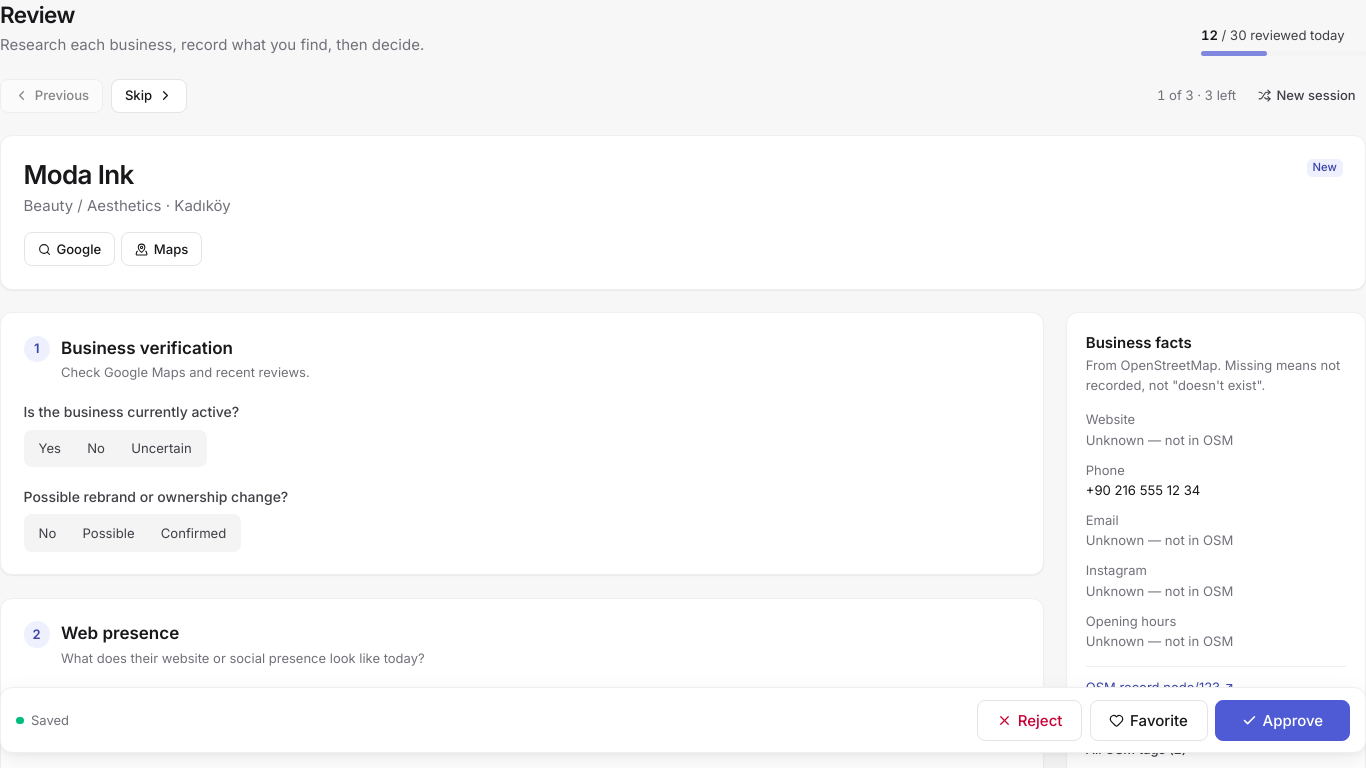
Review sessions › advances in the same deck after a decision
expect the heading "Moda Ink" is shown: met, box left=24, top=158, right=134, bottom=190
Click the button "Reject": (1030, 720) left=977, top=700, right=1082, bottom=741
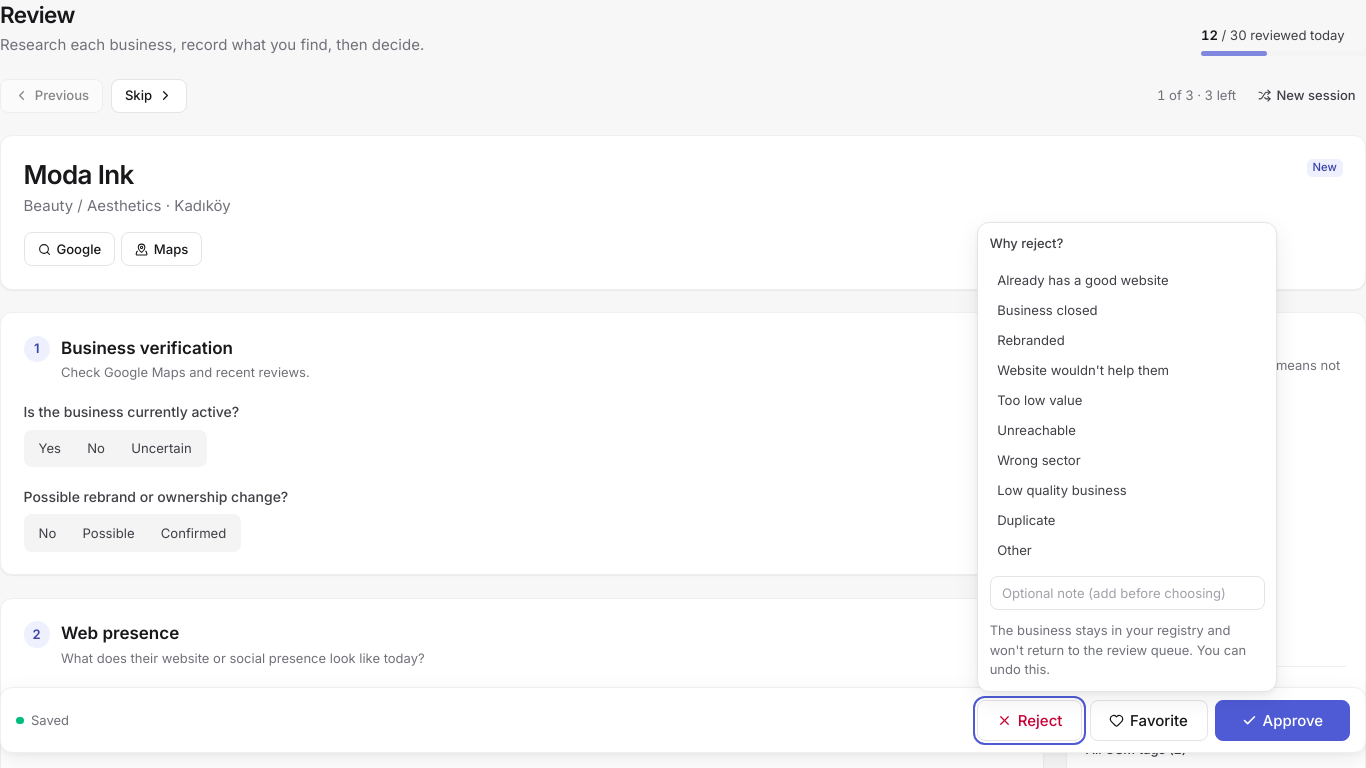
Click the button "Other": (1014, 550) left=990, top=535, right=1265, bottom=565
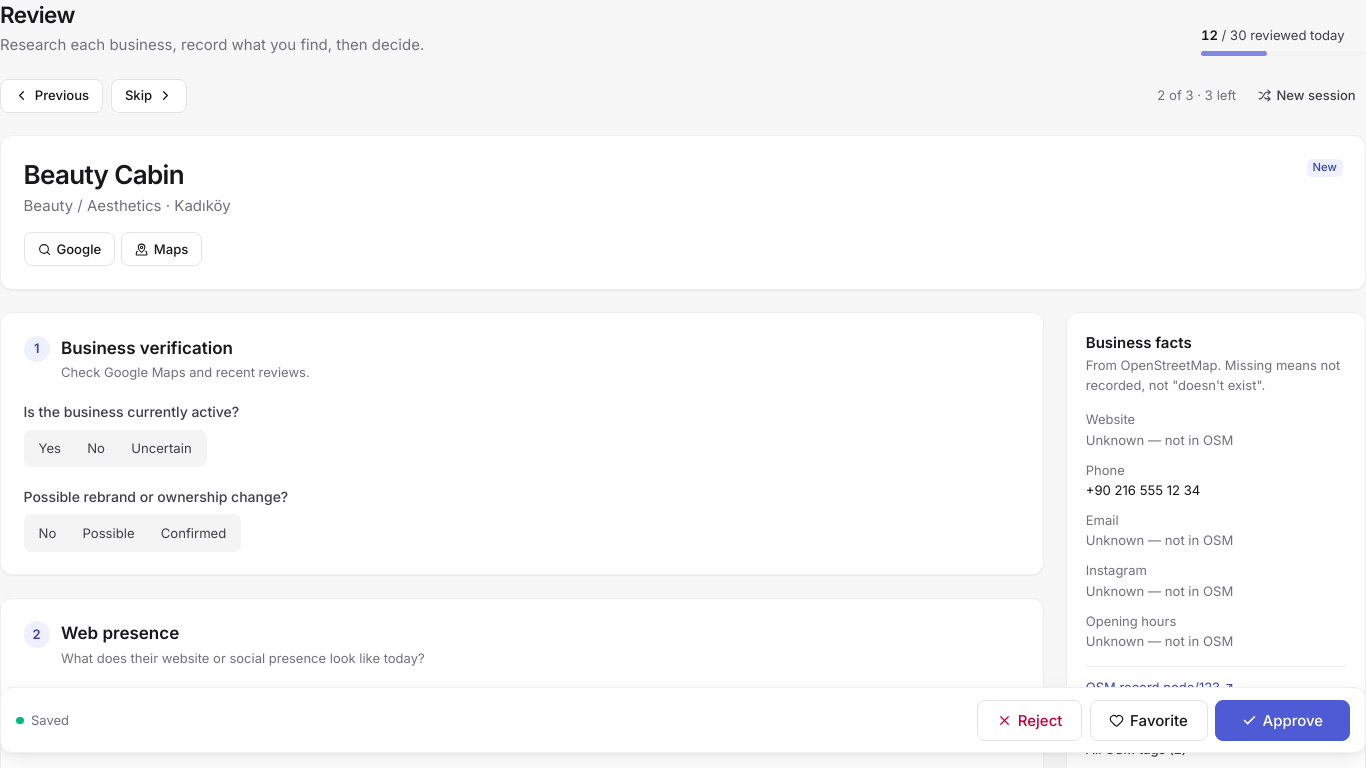
expect the heading "Beauty Cabin" is shown: met, box left=24, top=158, right=184, bottom=190
